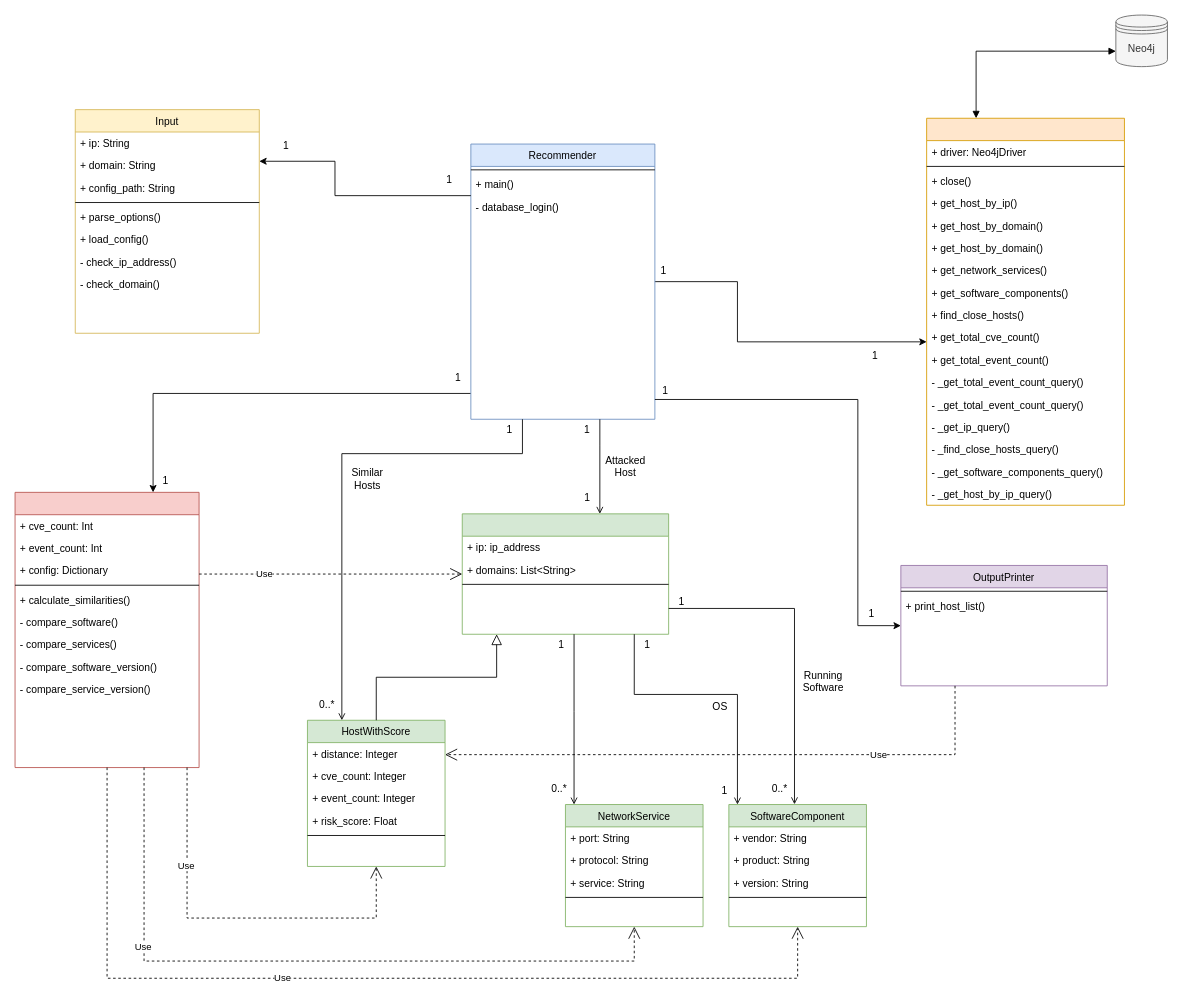
The diagram is 1183 pixels wide and 1005 high, and some of its shapes have lost their labels. The shapes that lost their labels are listed below. From the top down, each one's box as (x1, y1, x2, y2) in pixels, then its label:
(926, 117, 1124, 505): DatabaseConnection
(461, 513, 669, 634): Host
(14, 491, 199, 768): SimilarityCalculator
